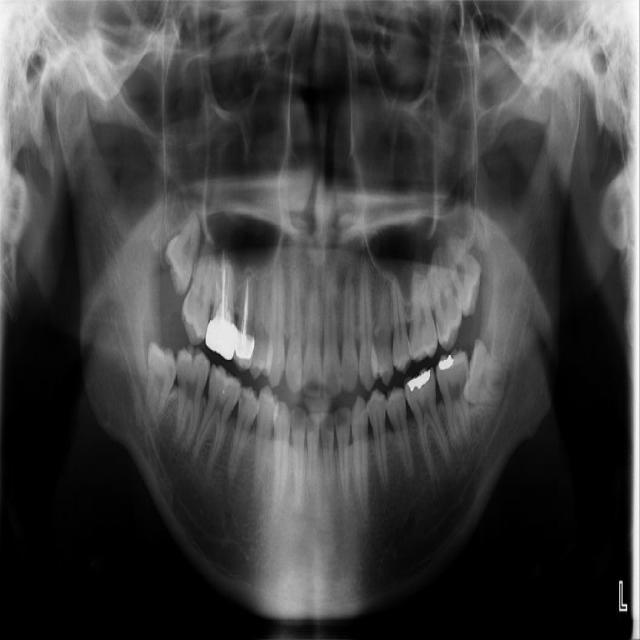3M ESPE Implant: (156, 207, 206, 296)
52: (429, 344, 478, 399), (397, 365, 448, 417), (200, 310, 245, 361), (231, 325, 256, 374)
73: (210, 247, 235, 322), (237, 273, 255, 333), (596, 580, 600, 590)
BioHorizons Implant: (423, 230, 467, 353)
BioLife Implant: (437, 216, 492, 319)
Biomet 3i Implant: (461, 338, 514, 409)
Blue Sky Bio Implant: (434, 347, 472, 451)
Caries: (176, 229, 222, 347)
Implant: (173, 342, 211, 449)
Keystone Dental Implant: (144, 341, 179, 427)
